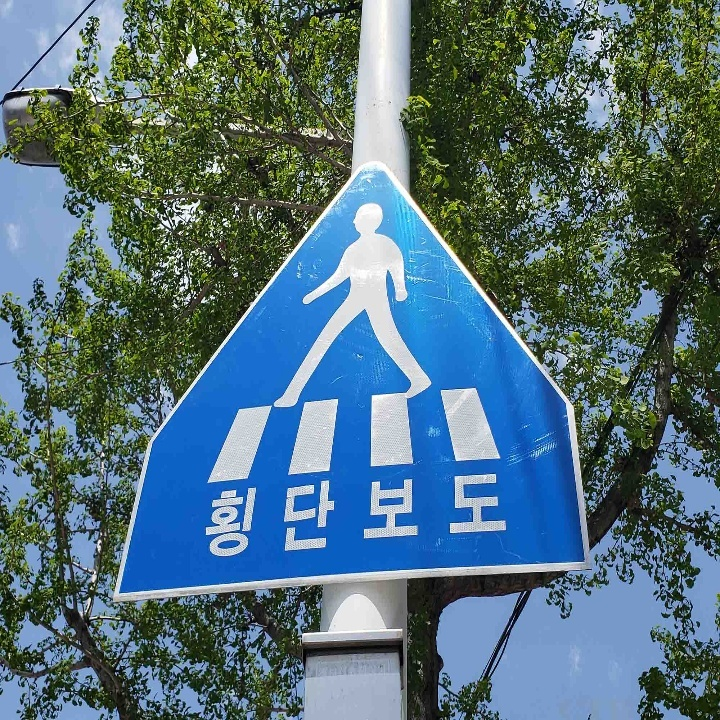cross: (251, 189, 473, 411)
